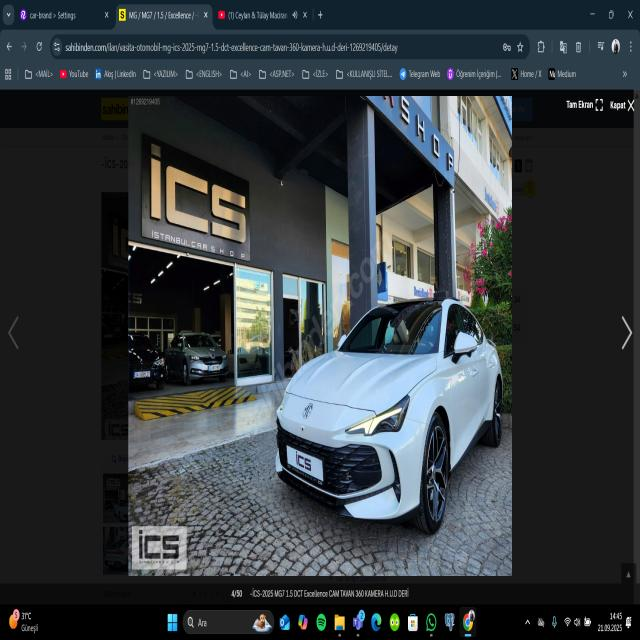mg: (300, 398, 316, 422)
